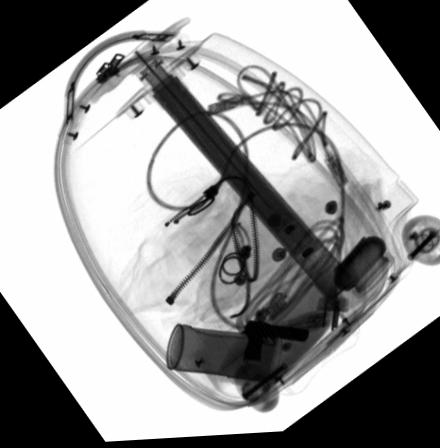Gun: (240, 321, 310, 365)
